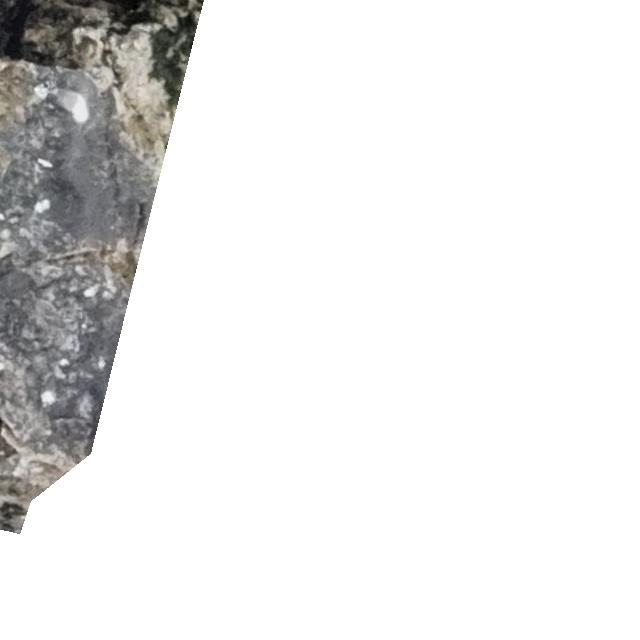umineko: (51, 85, 88, 124)
